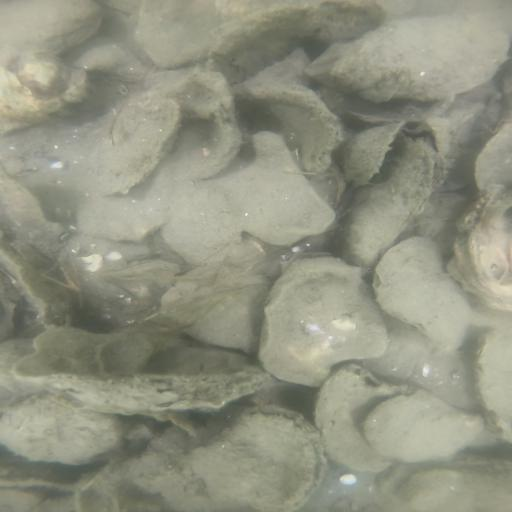Oyster-Closed: (12, 323, 274, 413), (306, 11, 512, 105), (252, 253, 389, 389), (342, 132, 449, 279), (129, 67, 249, 181), (226, 133, 337, 246), (372, 233, 471, 359), (243, 81, 348, 174), (315, 372, 408, 474), (363, 394, 489, 466), (94, 101, 185, 200), (2, 395, 124, 466), (1, 1, 109, 72), (137, 1, 224, 68), (469, 191, 512, 315), (476, 122, 512, 193)
Oyster-Open: (194, 411, 328, 511)
